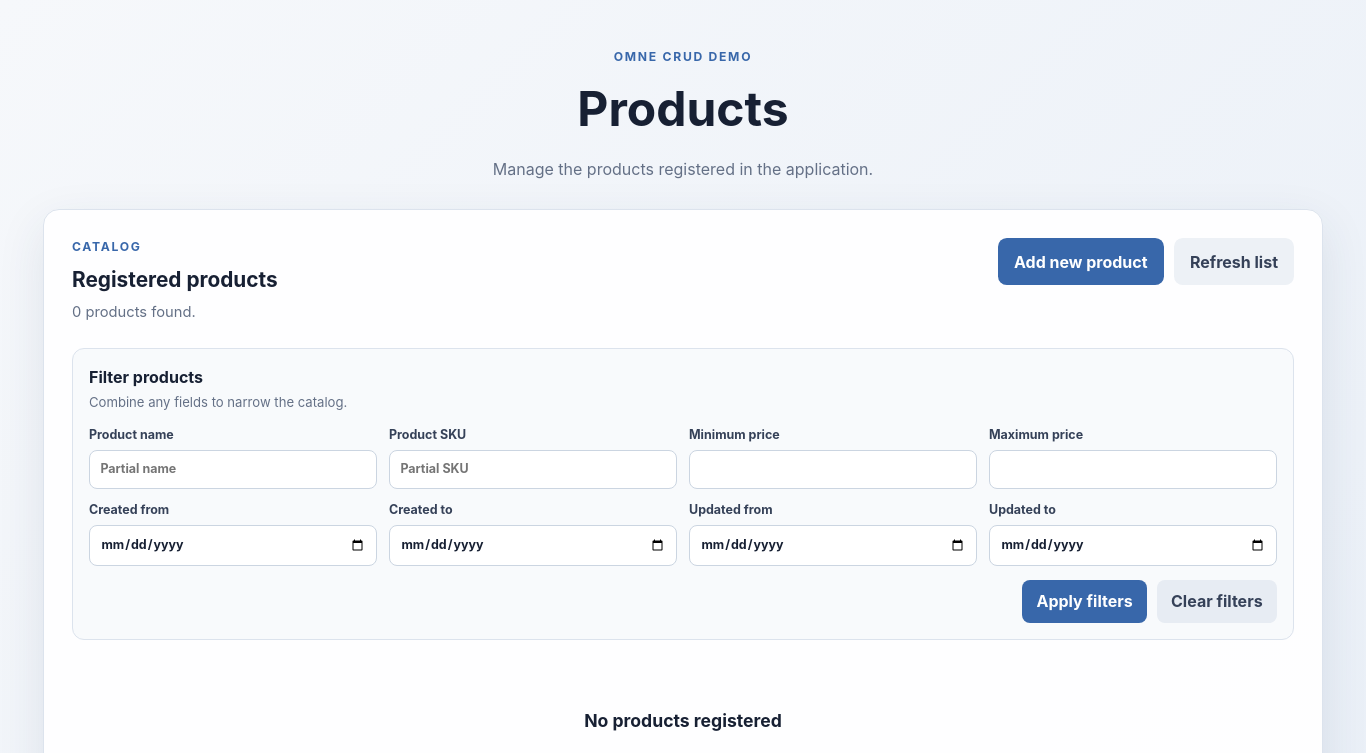
Test case: App › shows a functional error and preserves the form
Expected: the heading "Registered products" is shown, [72,264,278,295]
Click the button "Add new product" at (1081, 262), box [998,238,1164,285]
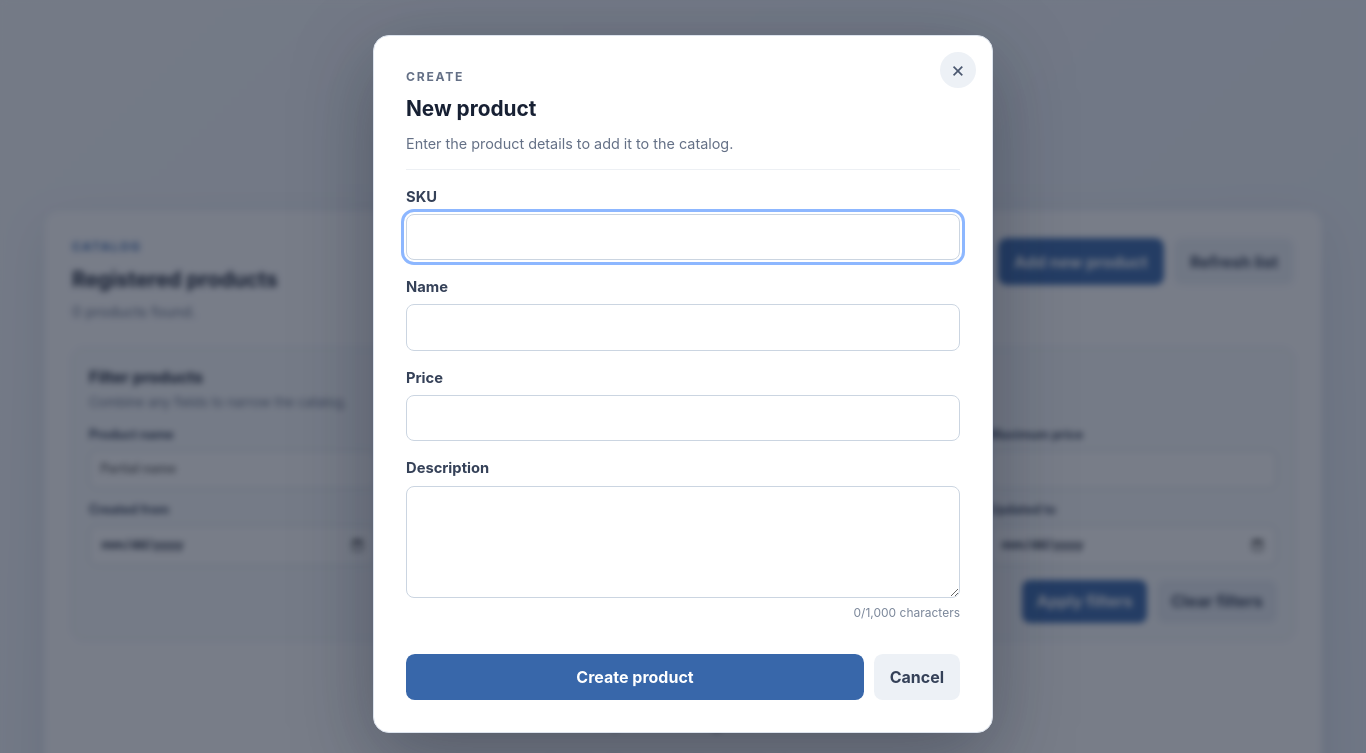
Type "sku-100" into the field labelled "SKU" at (683, 237), box [406,214,960,260]
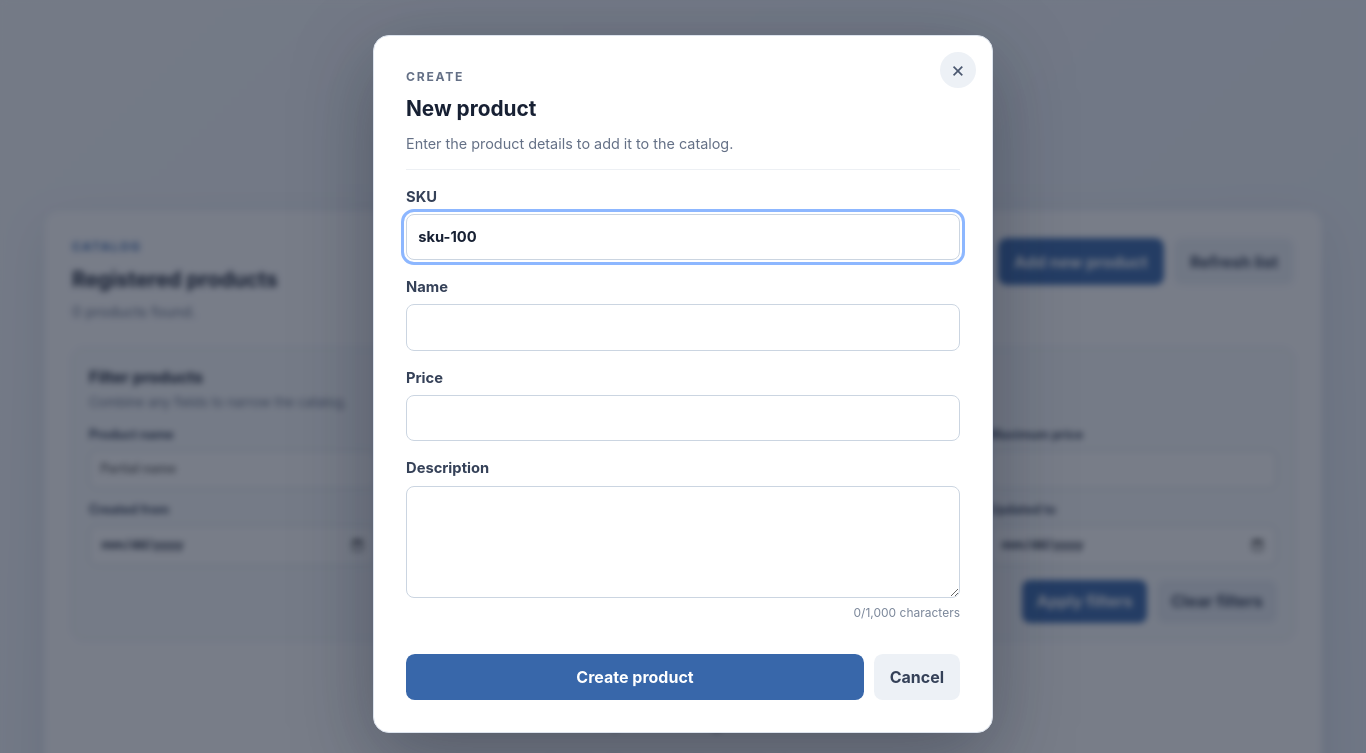
Type "Monitor" into the field labelled "Name" at (683, 328), box [406,304,960,351]
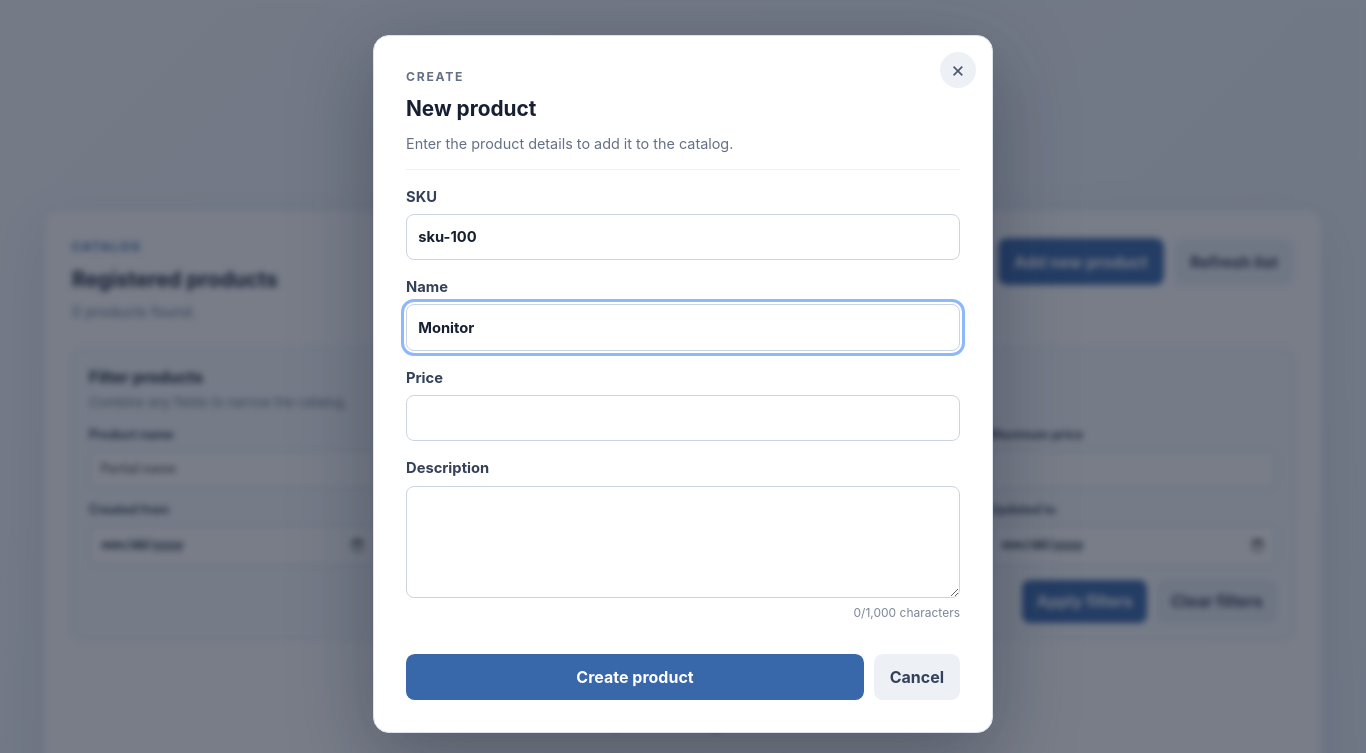
Type "1599.90" into the number field labelled "Price" at (683, 418), box [406,395,960,442]
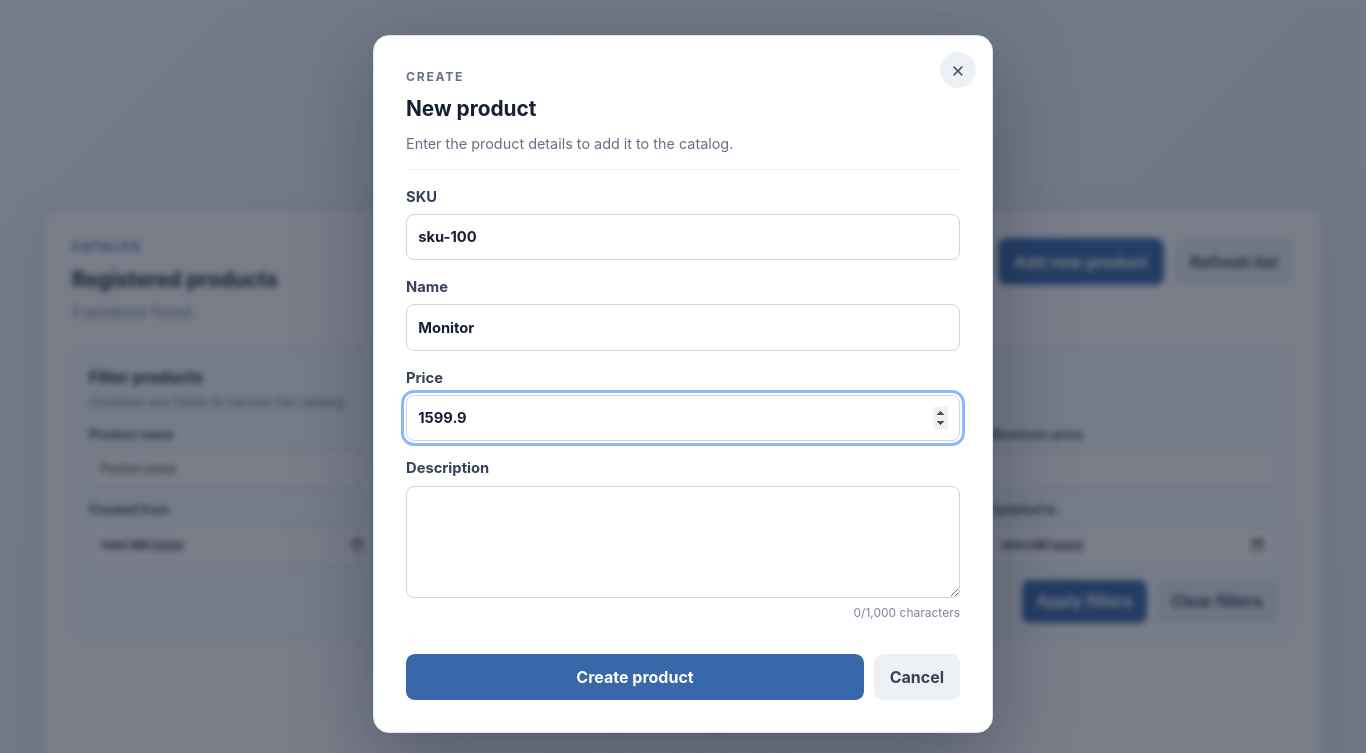
Type "Monitor for a workstation" into the text box labelled "Description 0/1,000 characters" at (683, 542), box [406,486,960,598]
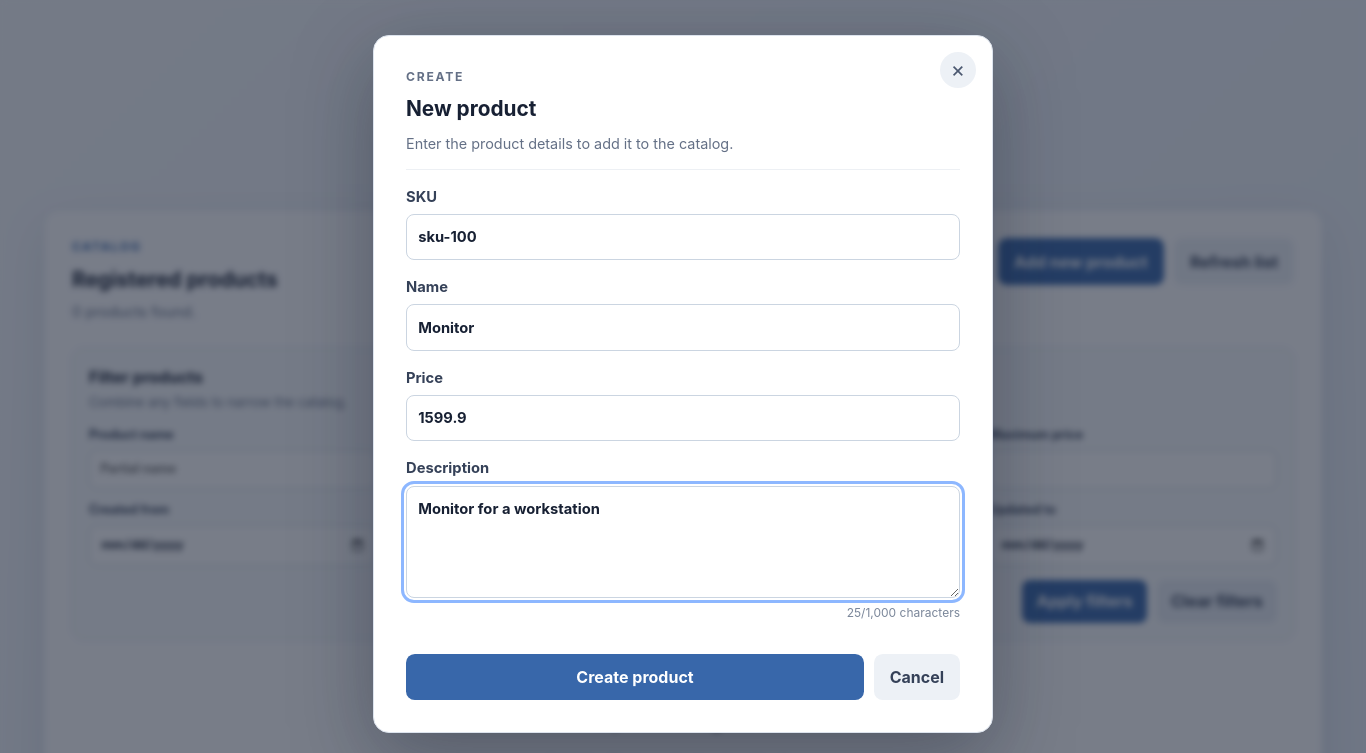
Click the button "Create product" at (635, 677), box [406,654,864,700]
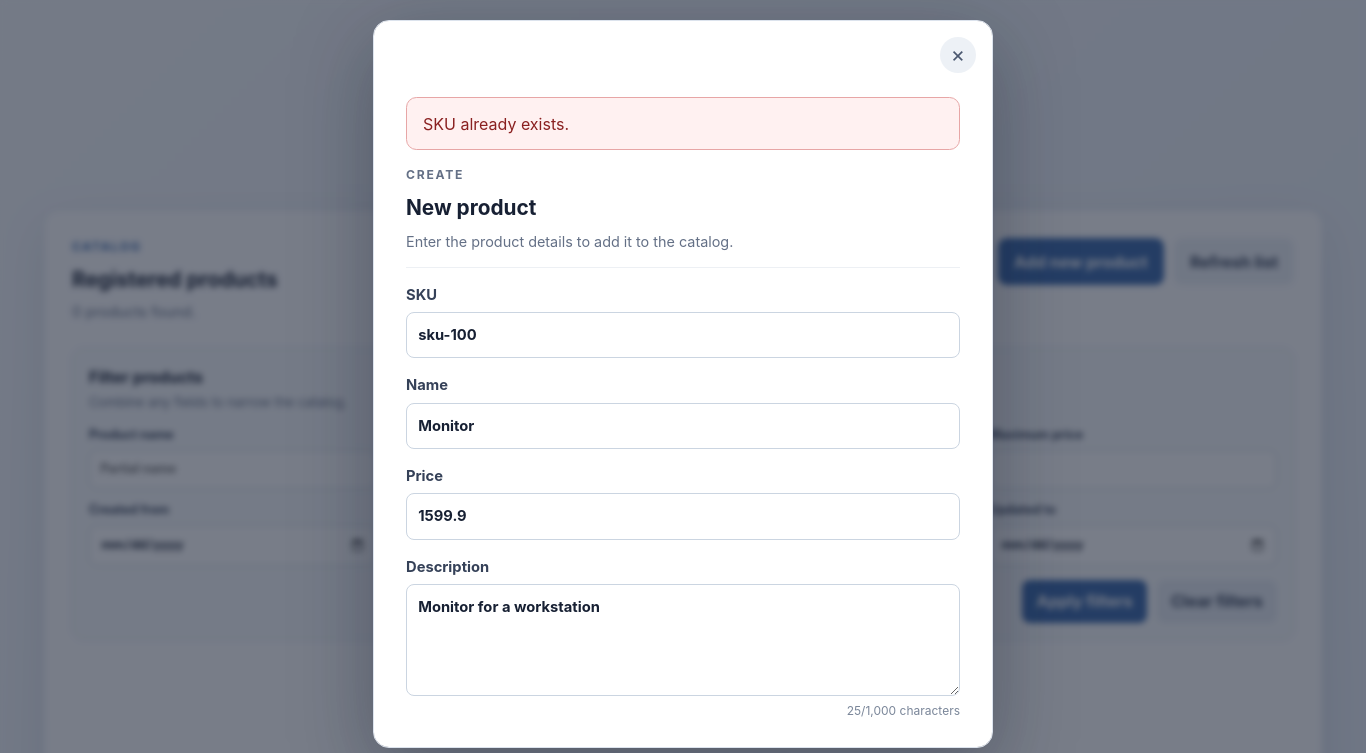
Expected: the text "SKU already exists." is shown, [406,97,960,150]
